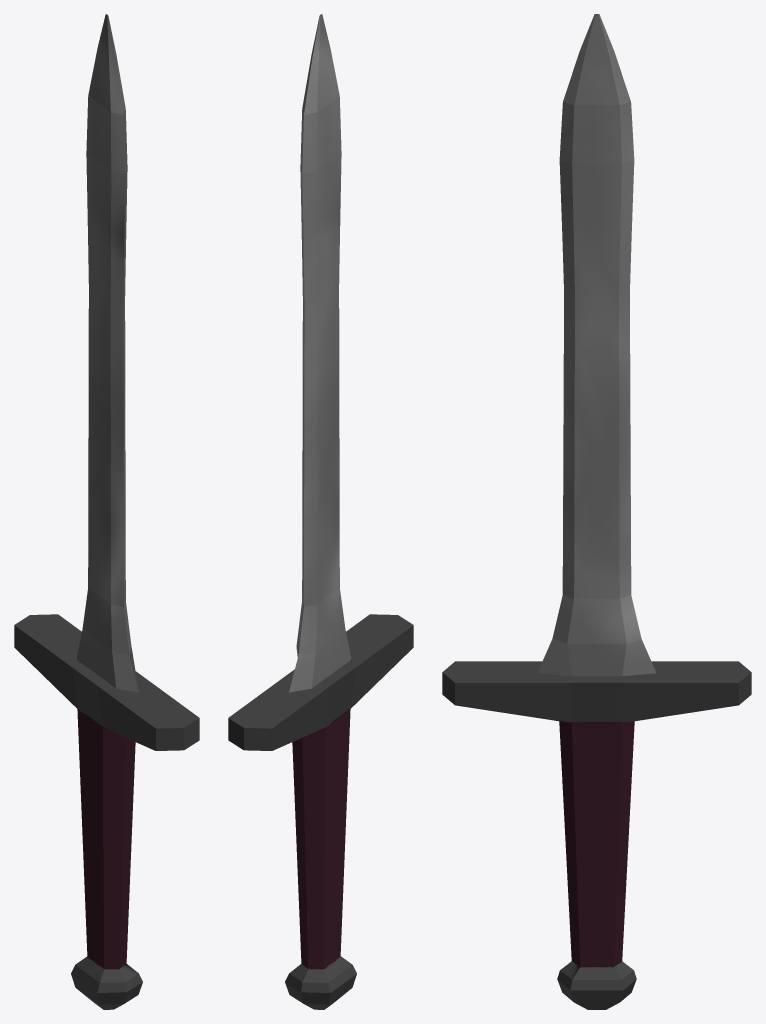
Rendered from Iron_Sword.fbx.
3 views of the same model, side by side, from view 1: azimuth 30°, elevation 25°; view 2: azimuth 150°, elevation 25°; view 3: azimuth 270°, elevation 25° (orthographic).
Parts seen in each view (by area): view 1: Cube; view 2: Cube; view 3: Cube.
Part boxes in pixels (x1,y1,x2,y2): Cube: (14,14,199,1009); Cube: (228,14,413,1009); Cube: (442,14,751,1009).
Bounding box in the file's own units: 0.0526 × 0.3064 × 1.09.
Materials: 1 (1 with a texture image).
